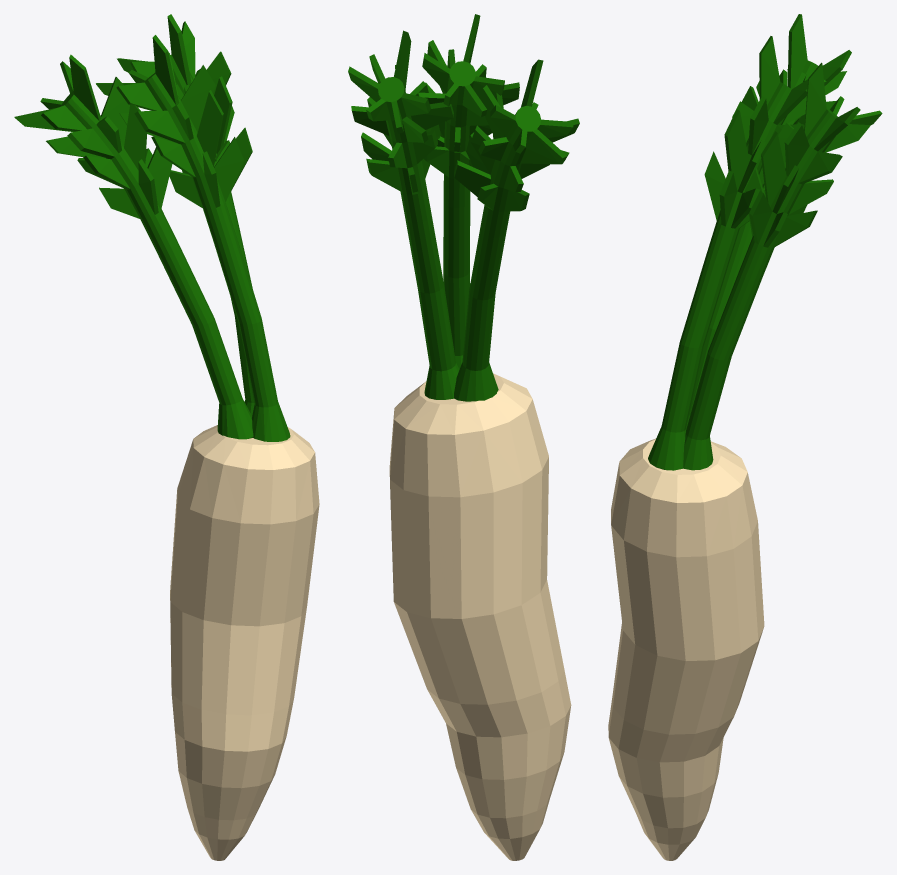
The model's file is CarrotWhite_v.1.5.fbx.
3 renders of one model, left to right at view 1: azimuth 30°, elevation 25°; view 2: azimuth 150°, elevation 25°; view 3: azimuth 270°, elevation 25°, orthographic. The views are drawn at different scales.
Parts seen in each view (by area): view 1: Cylinder.003; view 2: Cylinder.003; view 3: Cylinder.003.
Part boxes in pixels (box(x1,y1,x2,y2)): Cylinder.003: box(14, 14, 319, 860); Cylinder.003: box(348, 14, 579, 860); Cylinder.003: box(608, 14, 882, 860).
Size of the model in its own units: 150 by 509 by 155.
